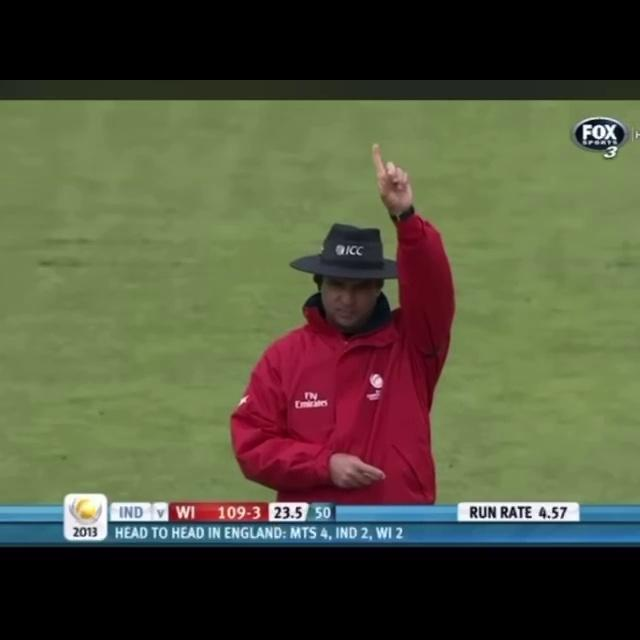umpire: (170, 134, 480, 505)
